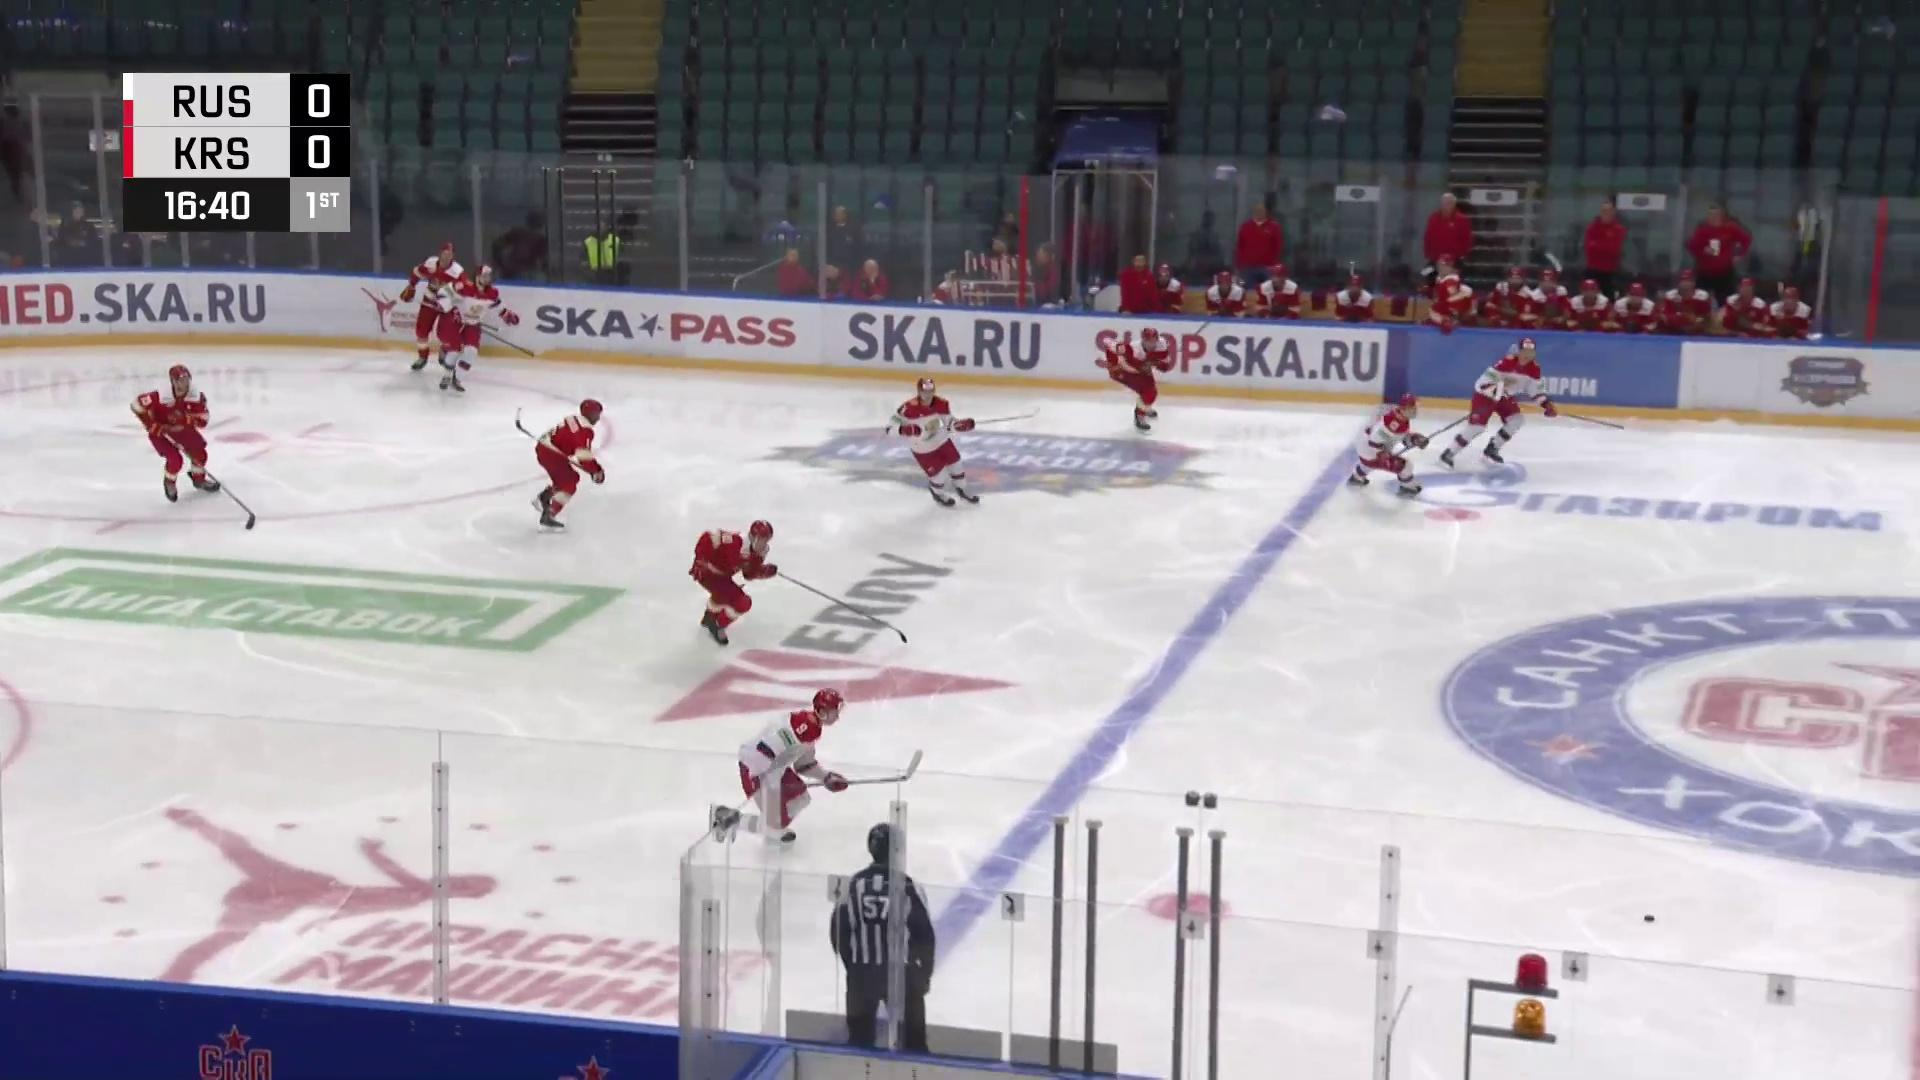ball: (1640, 911, 1658, 926)
